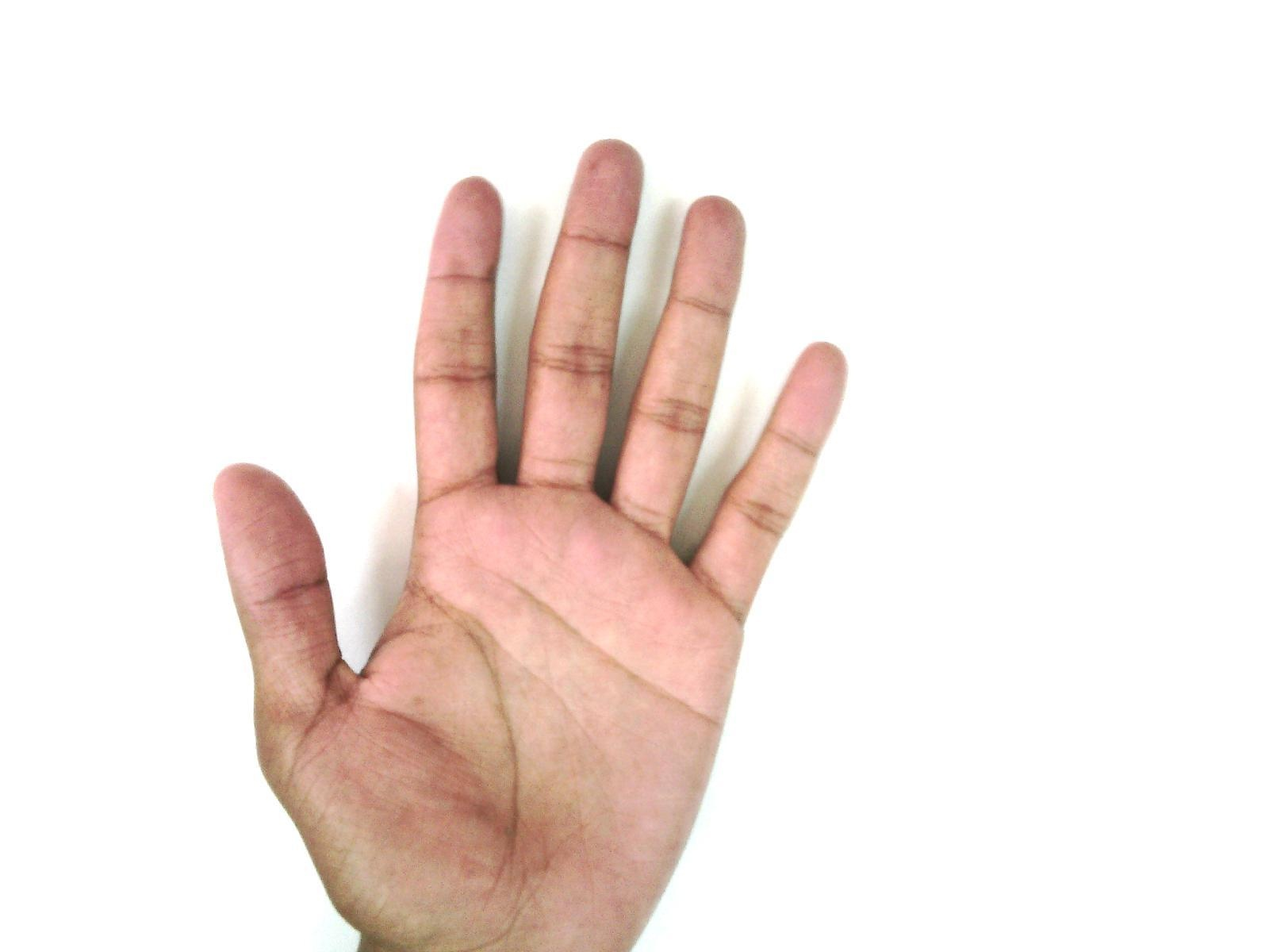open_palm: (211, 137, 852, 951)
